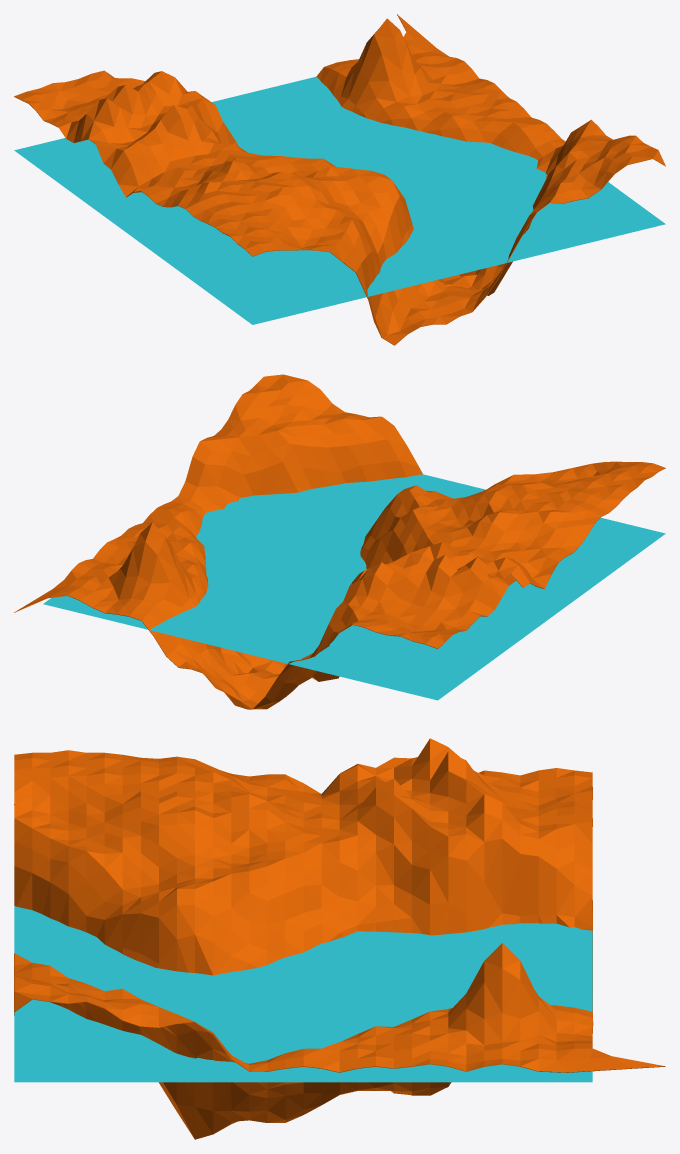
Rendered from GROUND1.fbx.
The picture shows the model from 3 angles, top to bottom: view 1: azimuth 30°, elevation 25°; view 2: azimuth 150°, elevation 25°; view 3: azimuth 270°, elevation 25°; orthographic projection. The views are drawn at different scales.
Parts seen in each view (by area): view 1: 평면.001, 평면.002; view 2: 평면.001, 평면.002; view 3: 평면.001, 평면.002.
Boxes of the visible parts, left/top/right/bottom form: 평면.001: left=14, top=14, right=665, bottom=345; 평면.002: left=14, top=76, right=665, bottom=324; 평면.001: left=14, top=374, right=665, bottom=709; 평면.002: left=43, top=474, right=665, bottom=700; 평면.001: left=14, top=738, right=665, bottom=1139; 평면.002: left=14, top=906, right=592, bottom=1082.
Size of the model in its own units: 1000 by 463 by 1127.
